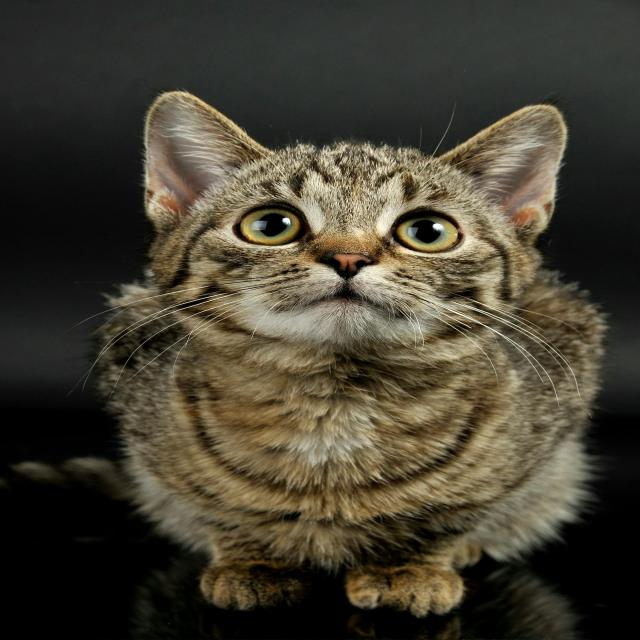Cat: (16, 88, 612, 621)
